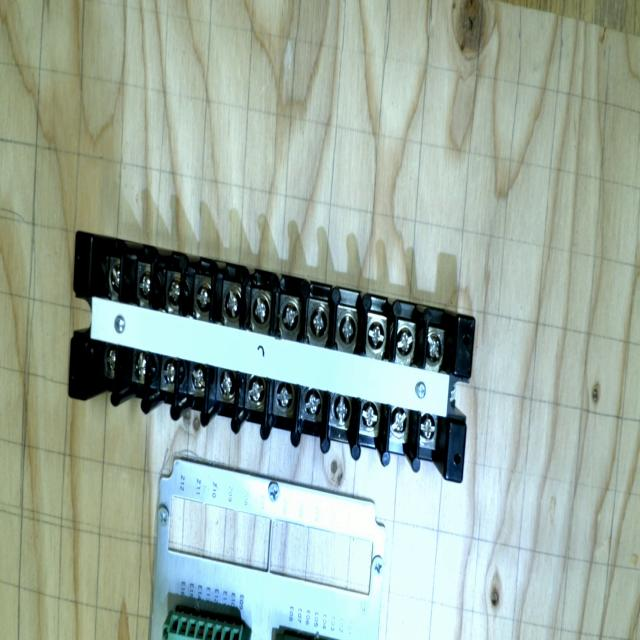Phillips_Block: (42, 232, 496, 482)
